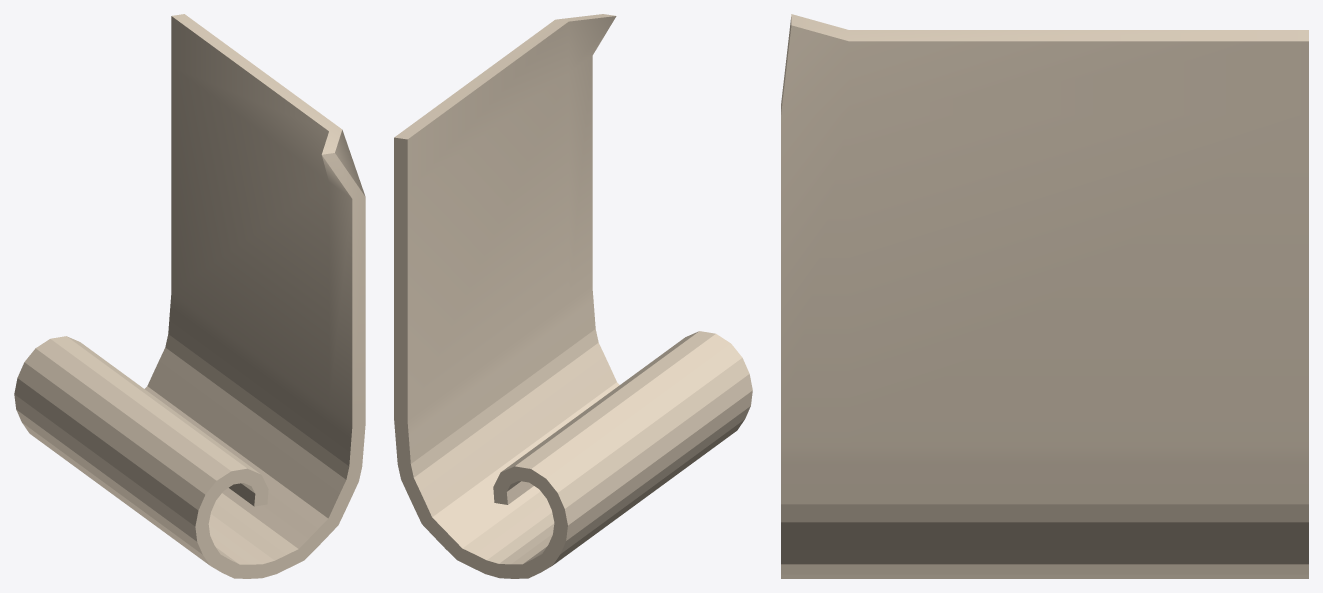
Rendered from carta.fbx.
The picture shows the model from 3 angles, left to right: view 1: azimuth 30°, elevation 25°; view 2: azimuth 150°, elevation 25°; view 3: azimuth 270°, elevation 25°; orthographic projection. The views are drawn at different scales.
Parts seen in each view (by area): view 1: Cube; view 2: Cube; view 3: Cube.
Boxes of the visible parts, <box> form: Cube: <box>14,14,365,578</box>; Cube: <box>394,14,752,578</box>; Cube: <box>781,14,1308,578</box>.
Bounding box in the file's own units: 0.1724 × 0.3946 × 0.3176.
